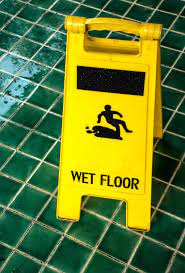wet caution sign: (59, 15, 162, 240)
